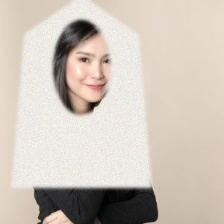Mukena: (11, 0, 151, 187)
